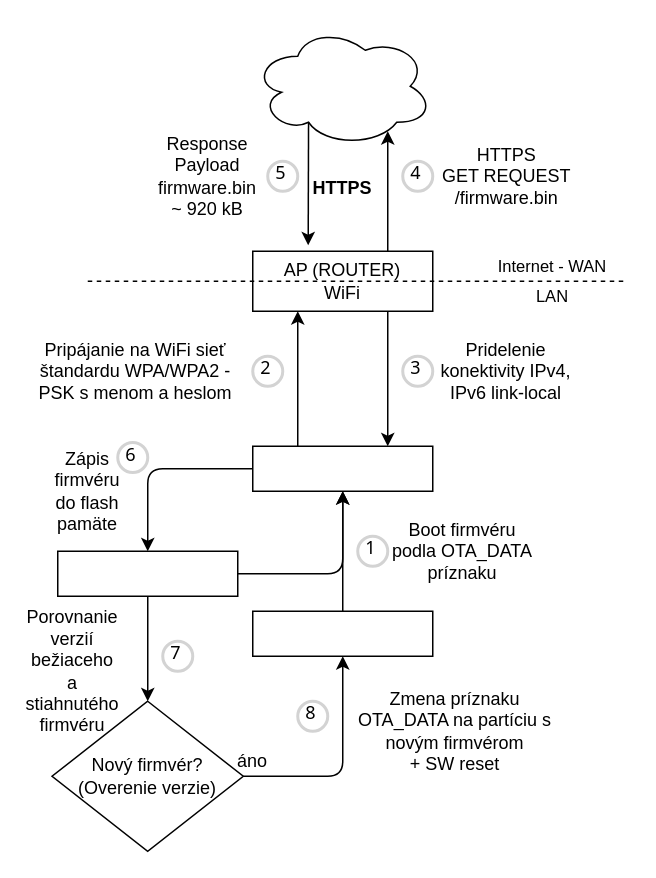
This 656x878 diagram has some shape labels left out. The shapes that lost their labels are listed below. From the top down, each one's centre as x and y in pixels, then its label:
the point at 342,85: OTA SERVER https://esp32.sk
the point at 342,468: ESP32
the point at 147,573: FLASH
the point at 342,633: OTA_DATA
